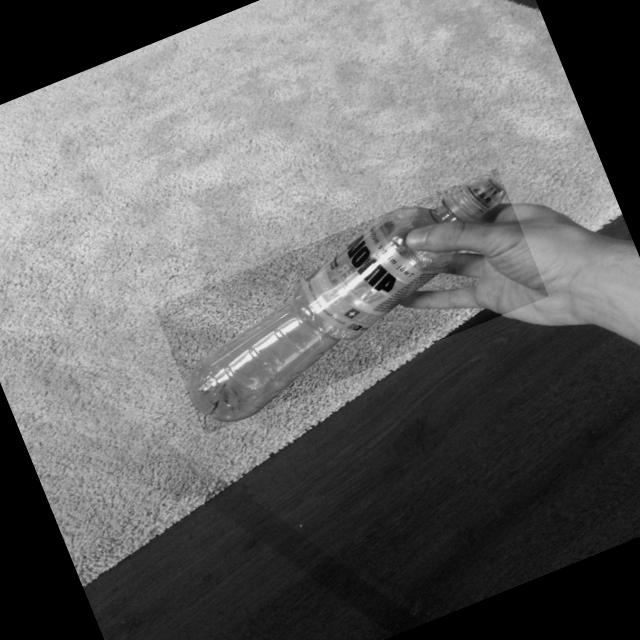Clear plastic bottle: (185, 176, 505, 422)
